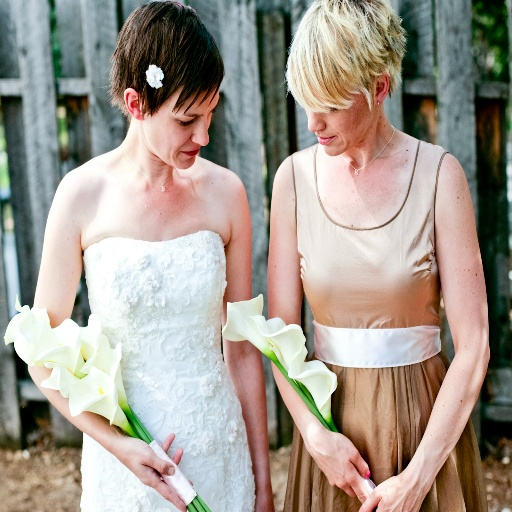hand: (118, 431, 193, 511), (312, 427, 377, 496), (357, 474, 425, 511)
